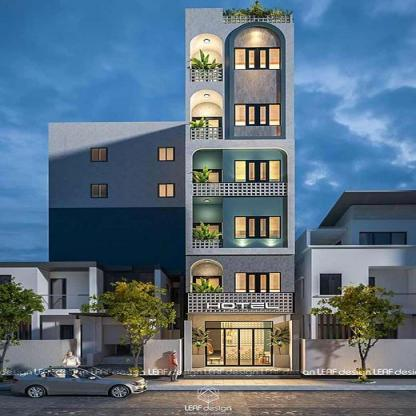Balcony: (188, 292, 293, 313), (193, 182, 287, 196), (222, 16, 293, 24), (190, 68, 222, 82), (190, 128, 222, 140), (192, 239, 222, 248)
Building Outline: (184, 9, 301, 380)
Door: (226, 329, 252, 365), (192, 276, 222, 305), (192, 117, 222, 143), (194, 223, 222, 249), (194, 169, 222, 193), (190, 64, 222, 85)
Facade: (184, 8, 296, 380)
Floor Slab: (184, 371, 301, 379), (186, 248, 295, 255), (186, 140, 294, 147), (186, 82, 294, 89), (186, 191, 294, 197), (187, 307, 293, 313)
Shop: (207, 302, 279, 309)
Window: (193, 148, 288, 248), (225, 22, 286, 140), (190, 89, 222, 140), (190, 259, 222, 309), (190, 33, 222, 82), (207, 329, 224, 365), (255, 329, 272, 365), (206, 322, 272, 328), (235, 161, 246, 182), (235, 217, 246, 238), (235, 49, 246, 70), (235, 105, 246, 125), (269, 161, 279, 182), (235, 273, 246, 292), (269, 49, 279, 69), (270, 273, 280, 292), (270, 217, 279, 238), (270, 105, 279, 125), (260, 162, 266, 180), (260, 50, 266, 68), (260, 219, 266, 236), (260, 107, 266, 124), (249, 162, 254, 180), (249, 50, 254, 68), (249, 219, 254, 236), (249, 275, 254, 292), (261, 275, 266, 292), (249, 107, 254, 124)
